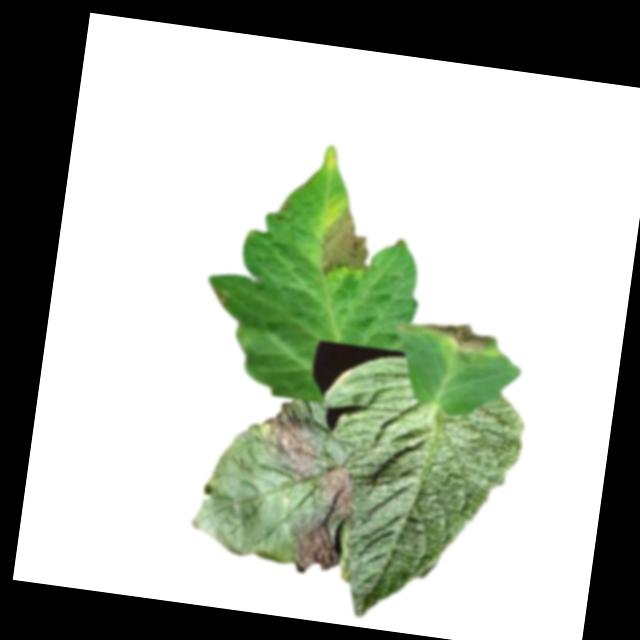Late_blight: (250, 397, 327, 484), (315, 205, 375, 285), (288, 513, 343, 576), (418, 316, 493, 356), (312, 462, 357, 519)
